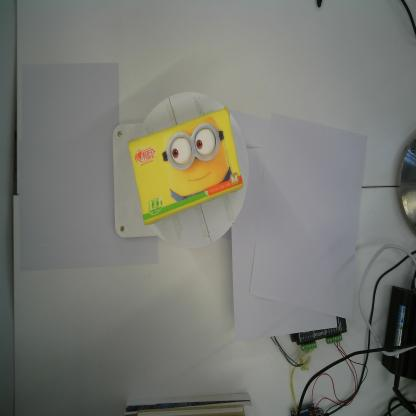Tissue: (128, 106, 244, 226)
